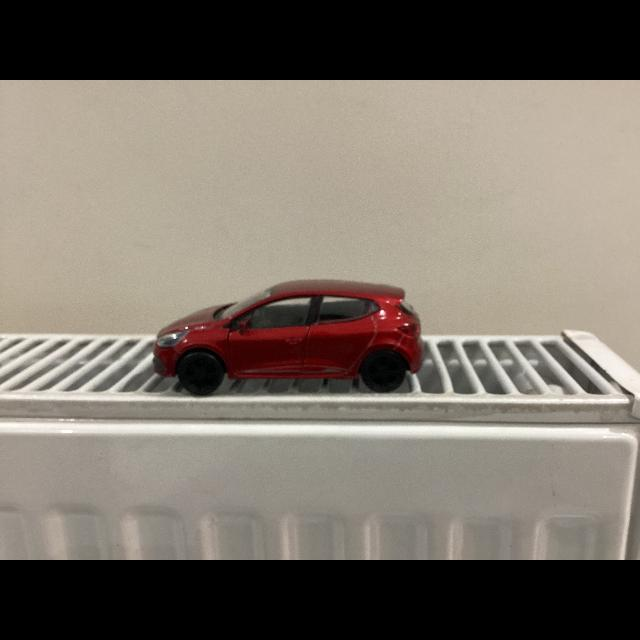Dogru_Jant: (182, 356, 219, 390), (366, 356, 404, 389)
